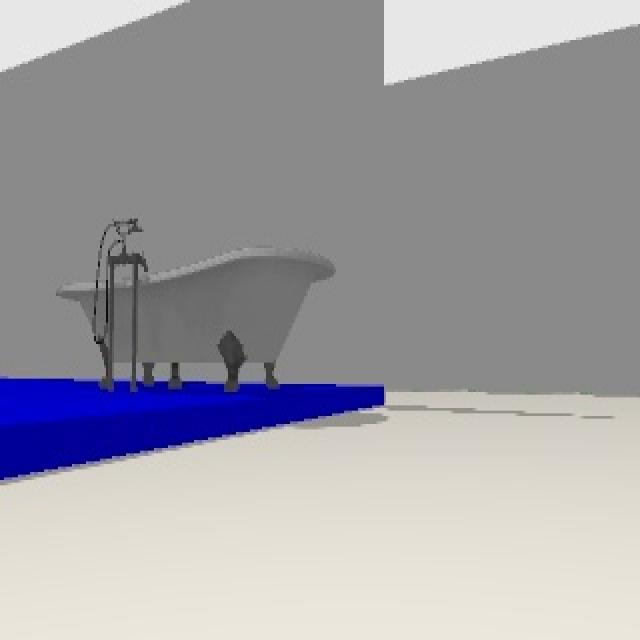bathtub: (54, 215, 335, 393)
